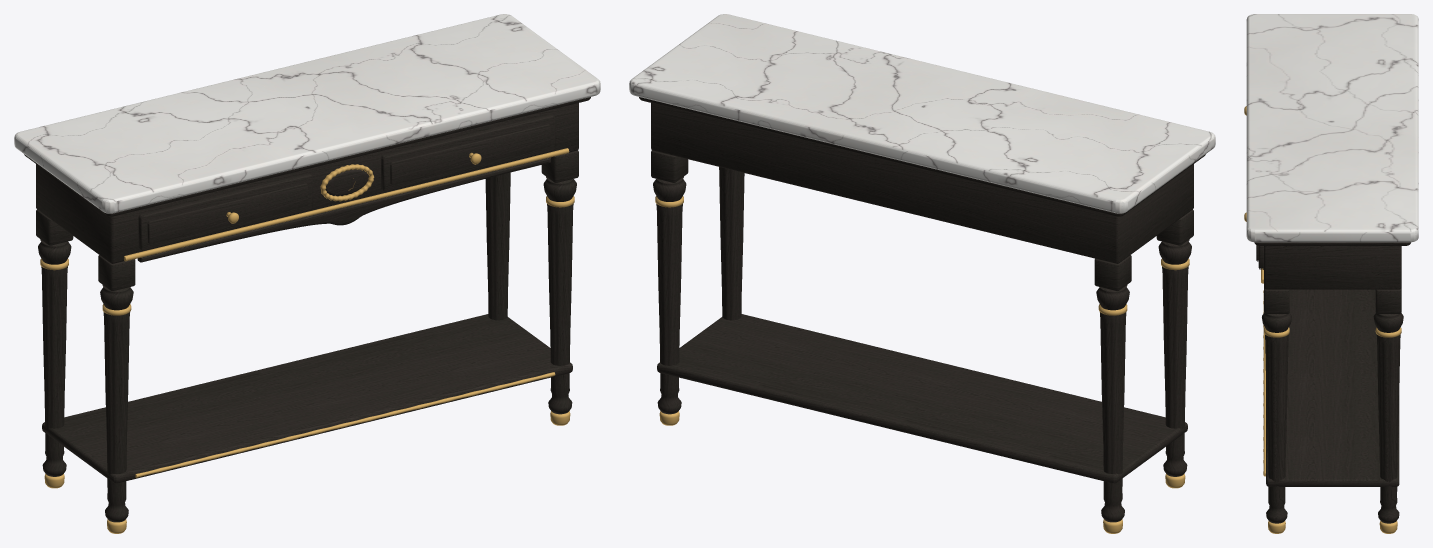
Rendered from console-120.glb.
3 renders of one model, left to right at view 1: azimuth 30°, elevation 25°; view 2: azimuth 150°, elevation 25°; view 3: azimuth 270°, elevation 25°, orthographic. The views are drawn at different scales.
Size of the model in its own units: 1.2 by 0.8 by 0.406.
3 materials, 2 textured.
